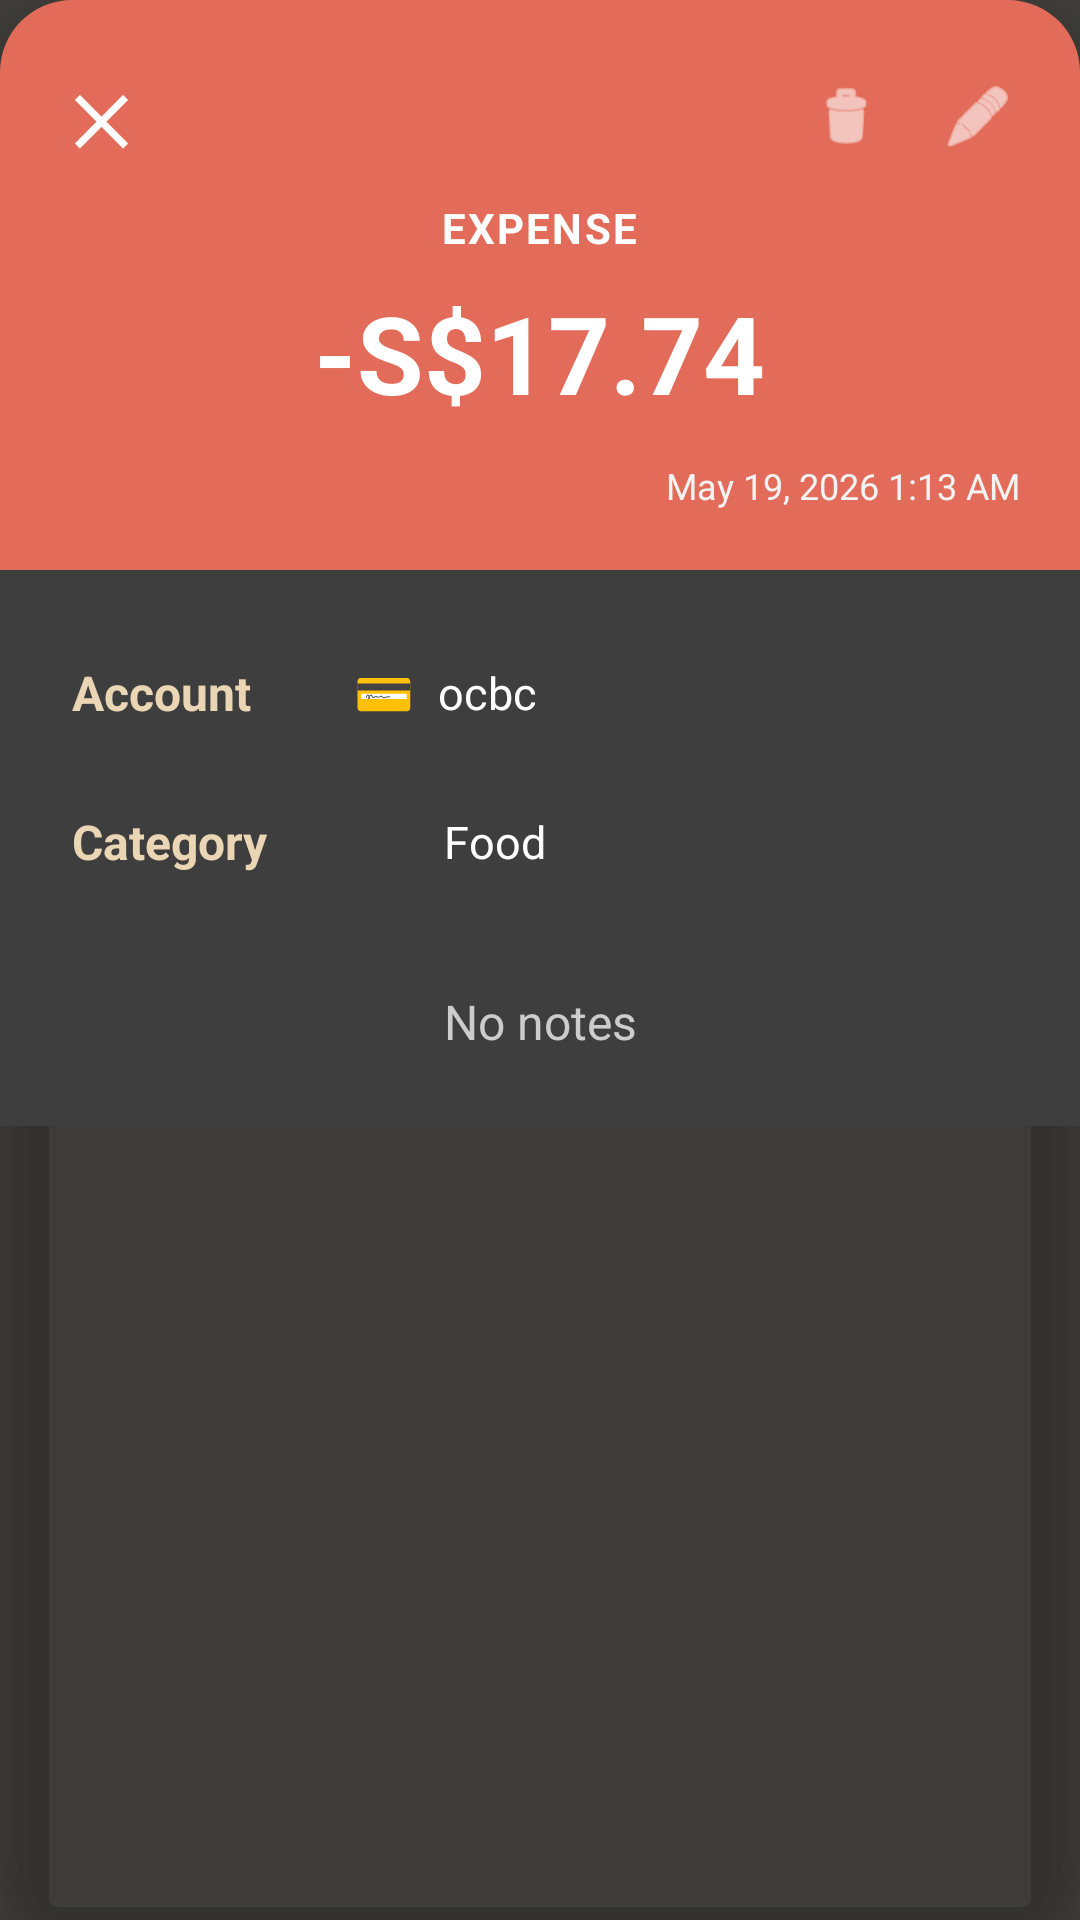

Icon click points for this 1080 × 1920 phone screenshot, format (x=x, y=y):
delete: (x=846, y=116)
edit: (x=977, y=116)
